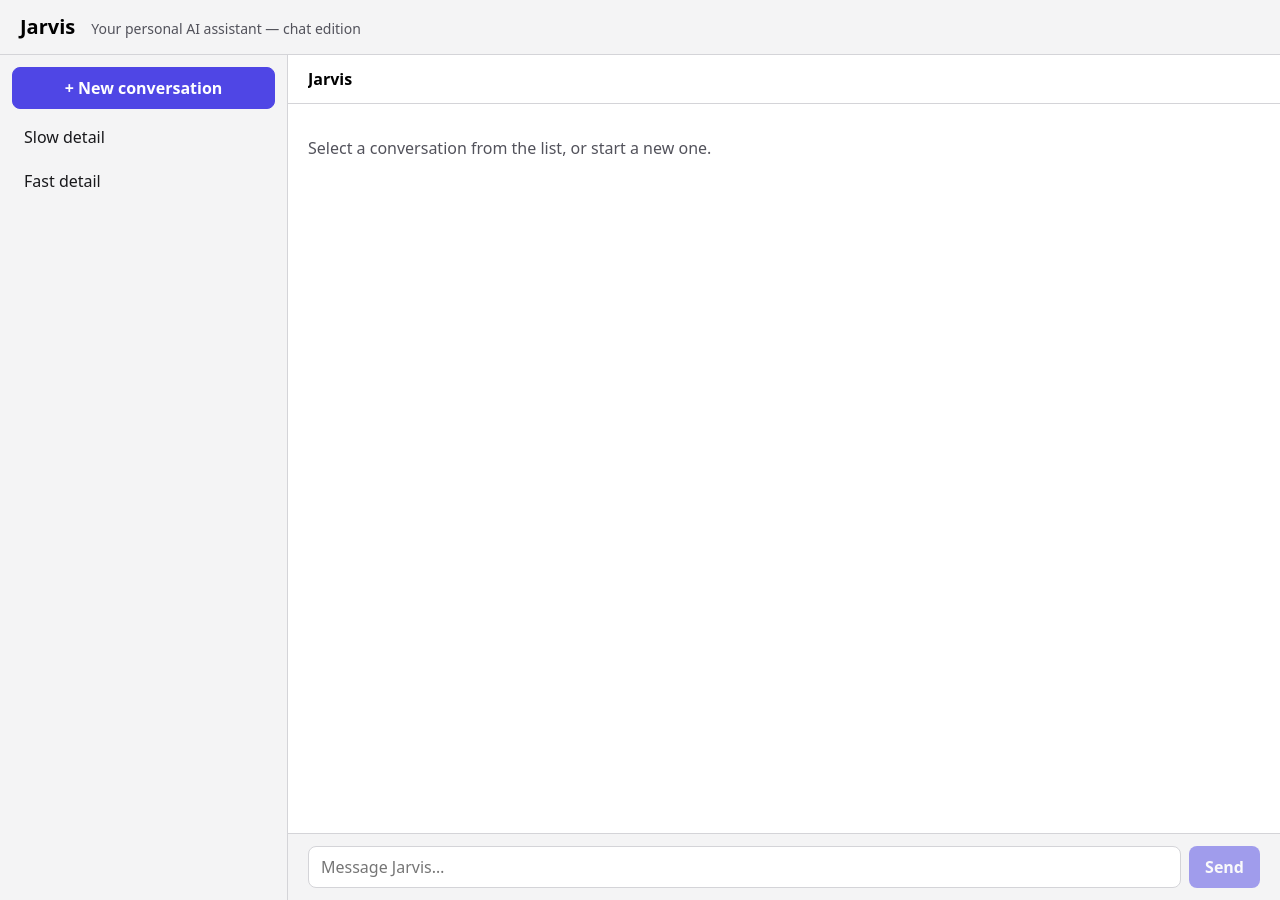
Test: sending messages › ignores a stale detail response after the user switches conversations
This screenshot has width=1280, height=900.
Click the button "Slow detail".
click(64, 137)  # box [12,117,275,157]
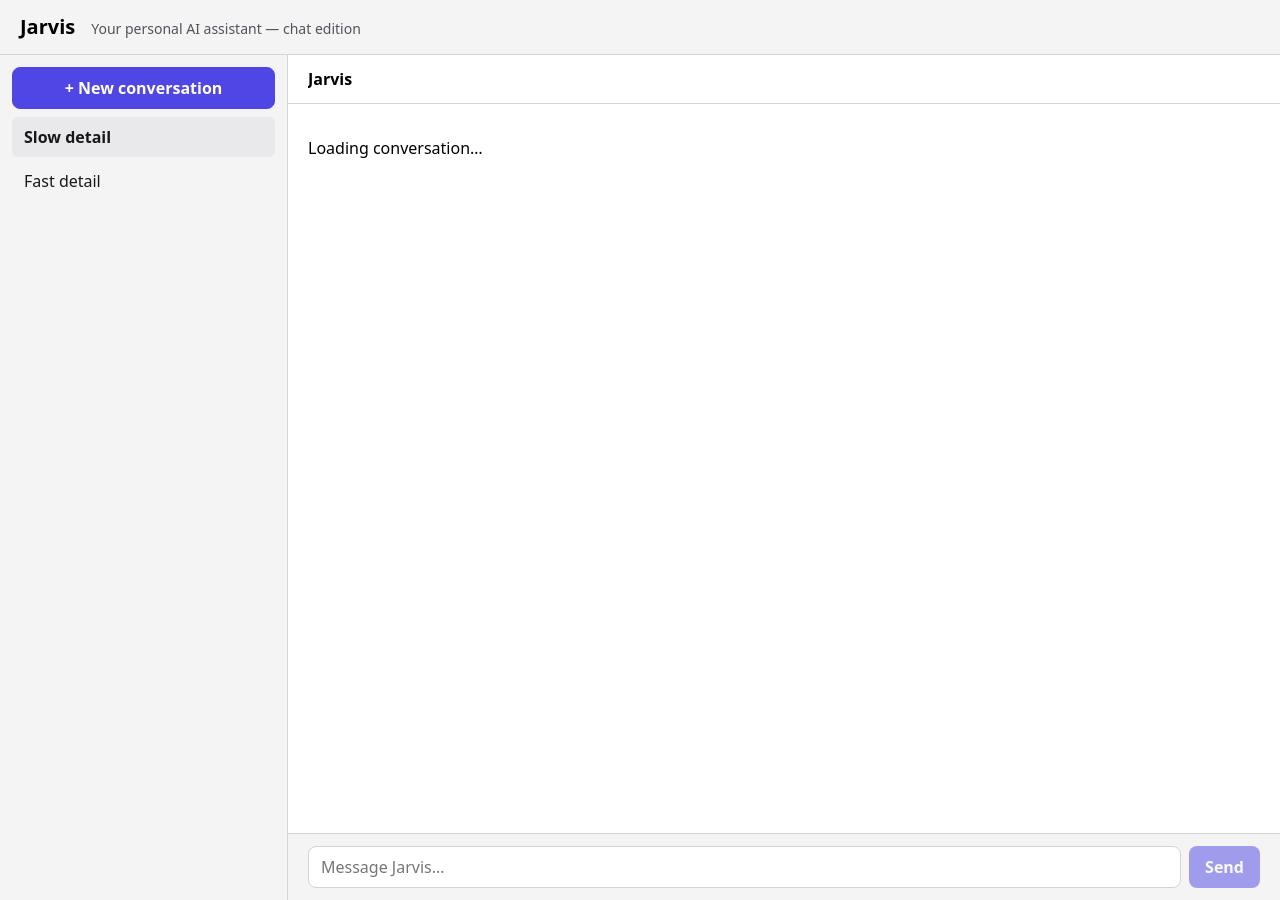
Click the button "Fast detail".
click(62, 181)  # box [12,161,275,201]
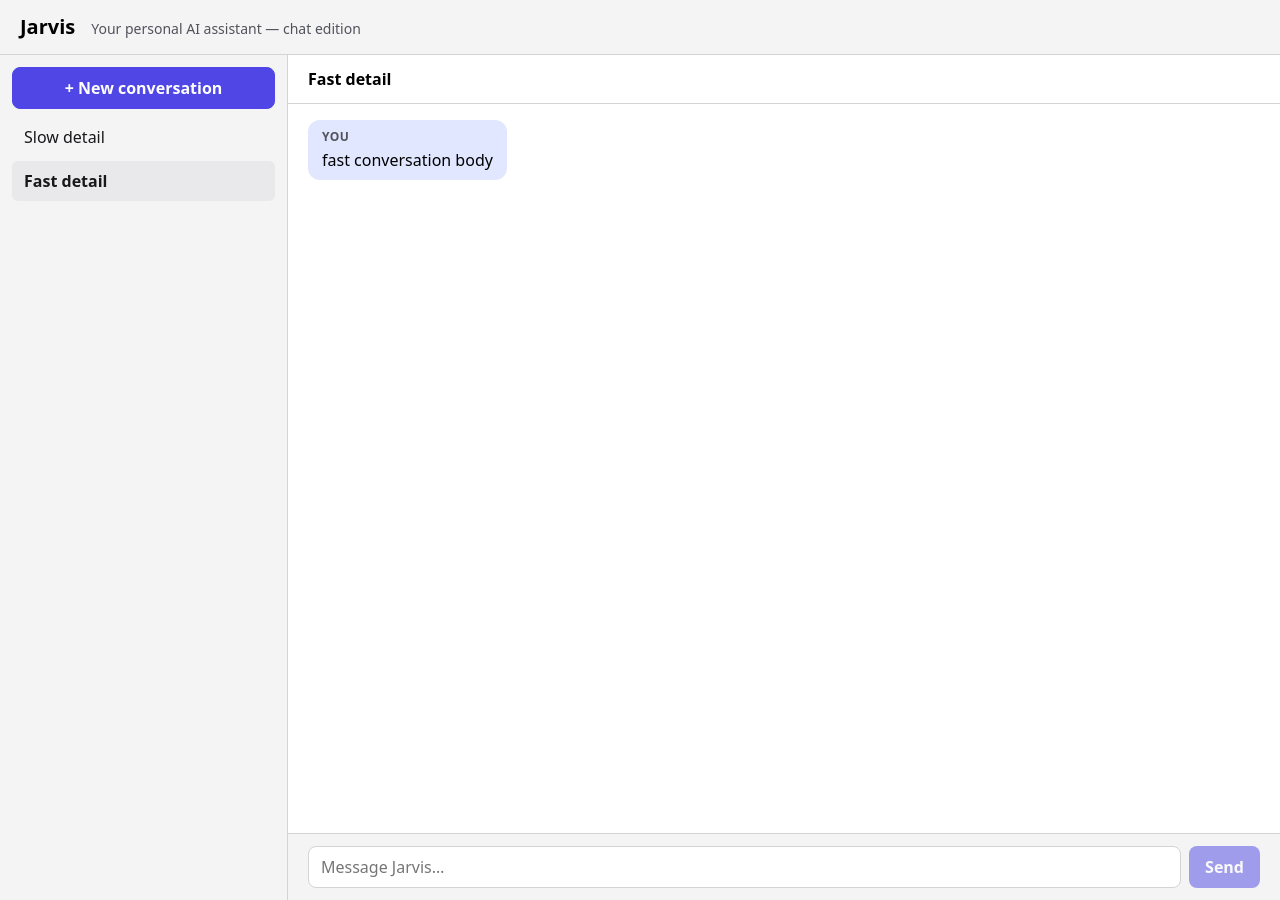
Expected: the text "fast conversation body" is shown, [322,148,493,172]
